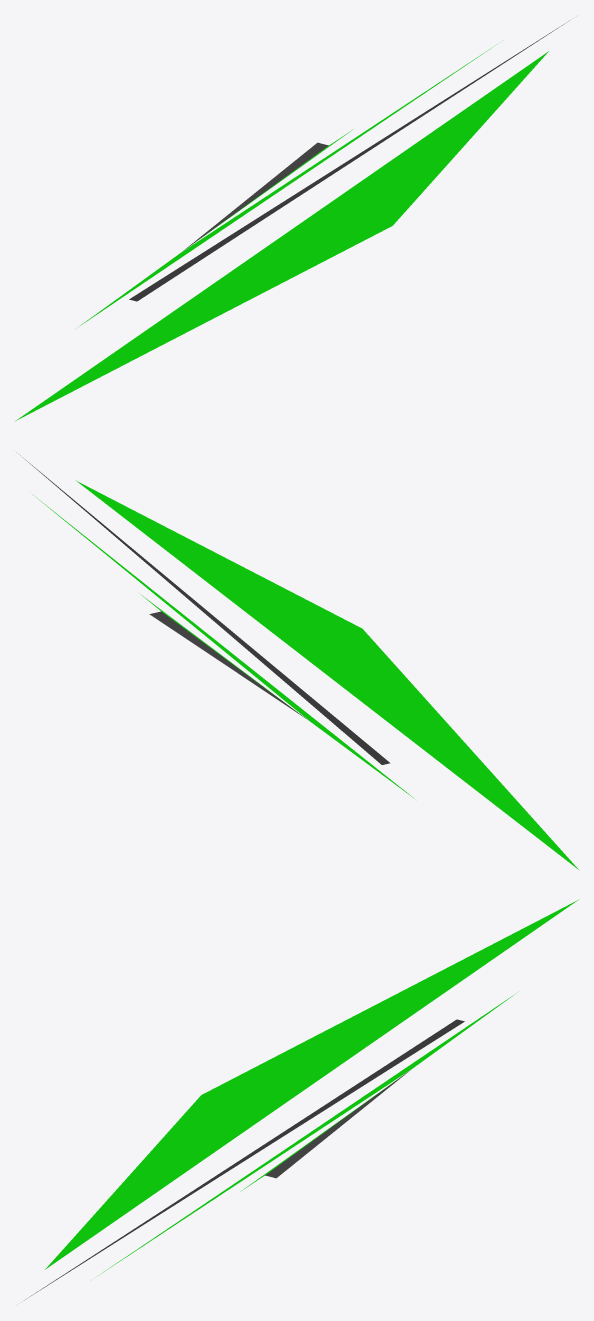
3 views of the same model, one above another, from view 1: azimuth 90°, elevation 25°; view 2: azimuth 150°, elevation 25°; view 3: azimuth 270°, elevation 25° (orthographic). The views are drawn at different scales.
Size of the model in its own units: 254 by 0 by 149.
